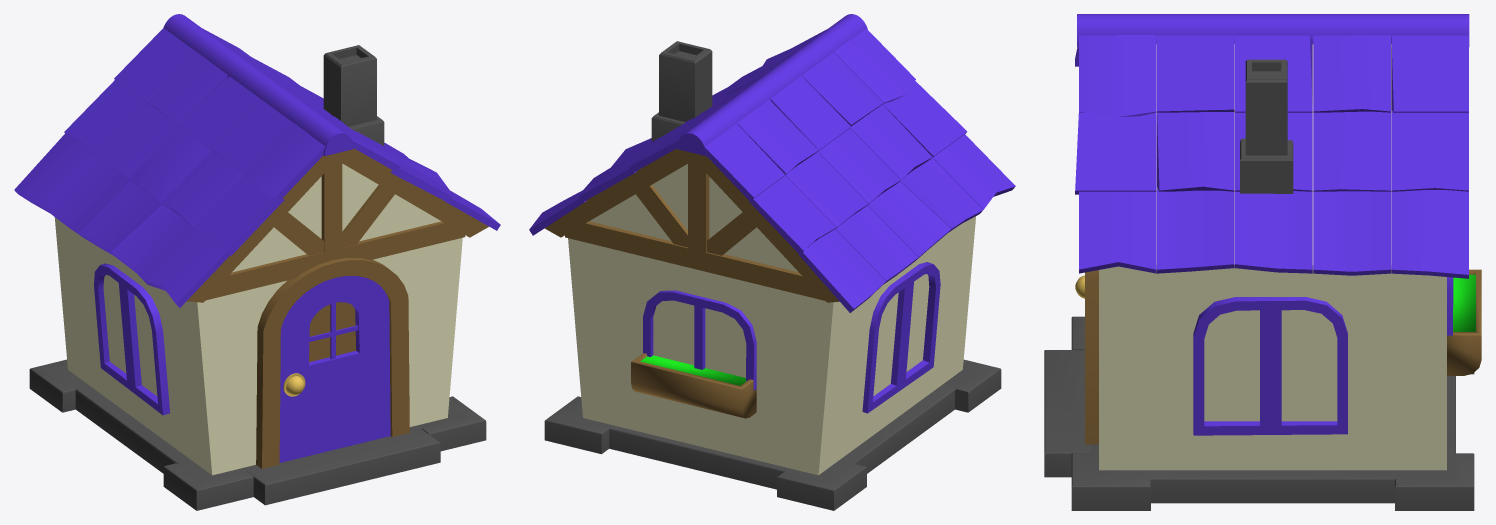
The model's file is CASA AZUL.glb.
3 renders of one model, left to right at view 1: azimuth 30°, elevation 25°; view 2: azimuth 150°, elevation 25°; view 3: azimuth 270°, elevation 25°, orthographic. The views are drawn at different scales.
Parts seen in each view (by area): view 1: Plane.003; view 2: Plane.003, Plane.001; view 3: Plane.003.
Boxes of the visible parts, left/top/right/bottom form: Plane.003: left=14, top=14, right=500, bottom=510; Plane.003: left=529, top=14, right=1015, bottom=510; Plane.001: left=643, top=290, right=756, bottom=390; Plane.003: left=1044, top=14, right=1481, bottom=510.
Bounding box in the file's own units: 5.04 × 4.95 × 4.78.
